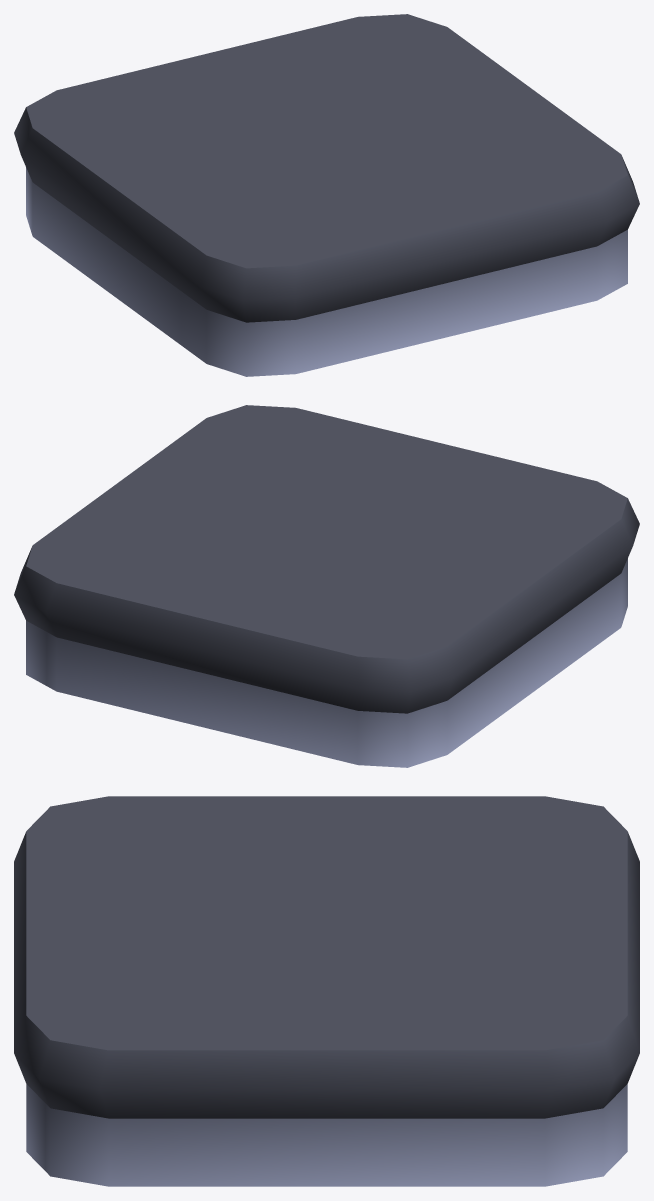
File: block-snow-low-large.glb
3 views of the same model, one above another, from view 1: azimuth 30°, elevation 25°; view 2: azimuth 150°, elevation 25°; view 3: azimuth 270°, elevation 25° (orthographic). The views are drawn at different scales.
Visible parts, largest first — view 1: block-snow-low-large; view 2: block-snow-low-large; view 3: block-snow-low-large.
Part boxes in pixels (x1=…): block-snow-low-large: x1=14, y1=14, x2=639, y2=376; block-snow-low-large: x1=14, y1=405, x2=639, y2=767; block-snow-low-large: x1=14, y1=796, x2=639, y2=1186.
Size of the model in its own units: 2.08 by 0.5 by 2.08.
